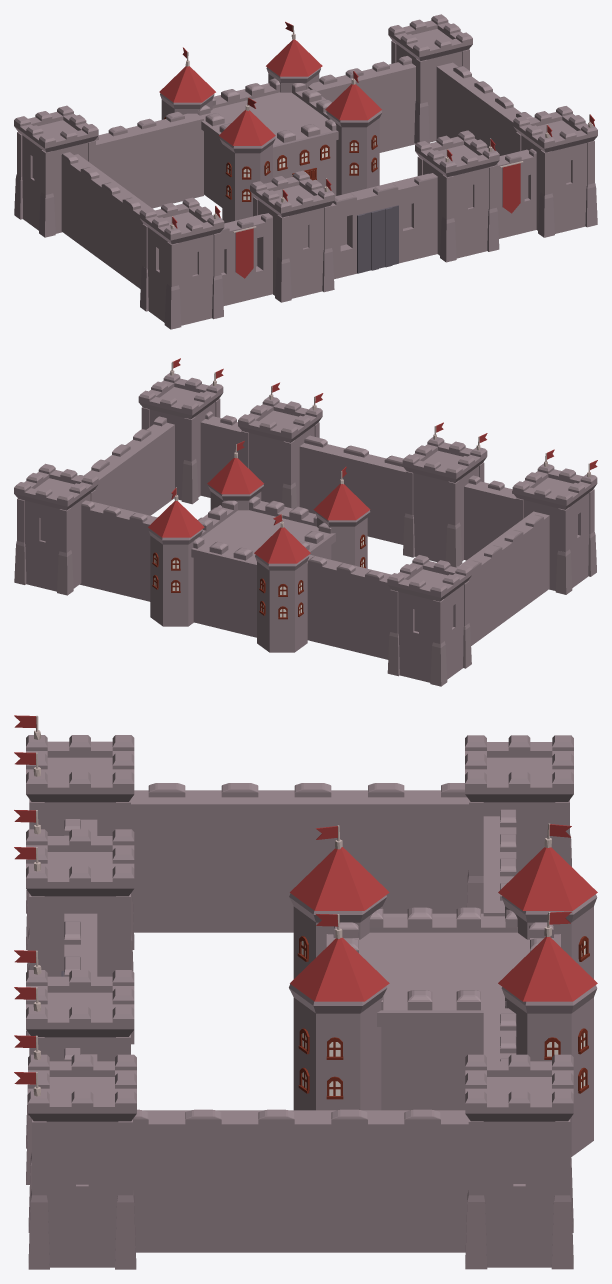
The model's file is House_of_Domination.fbx.
3 renders of one model, top to bottom at view 1: azimuth 30°, elevation 25°; view 2: azimuth 150°, elevation 25°; view 3: azimuth 270°, elevation 25°, orthographic. The views are drawn at different scales.
Visible parts, largest first — view 1: Замок большой; view 2: Замок большой; view 3: Замок большой.
Boxes of the visible parts, x1,y1,x2,y2 form: Замок большой: (14,14,597,329); Замок большой: (14,358,597,686); Замок большой: (14,715,597,1269).
Size of the model in its own units: 5531 by 1608 by 3736.
